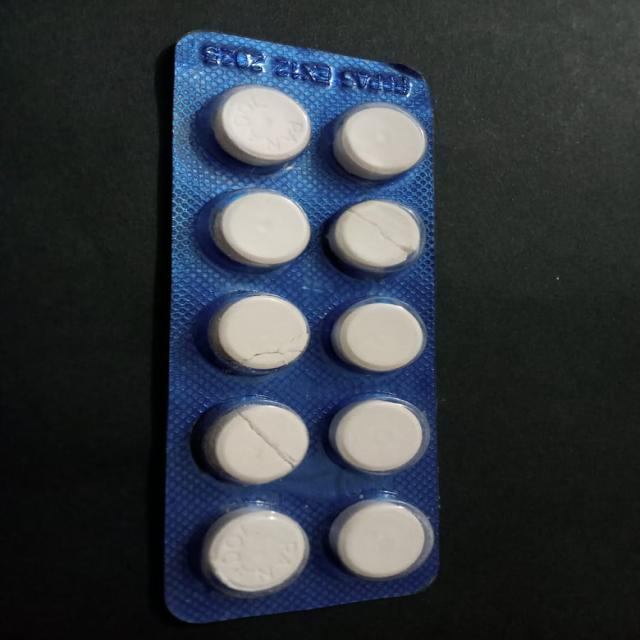defect: (193, 400, 314, 487), (208, 292, 316, 374), (325, 198, 428, 274)
